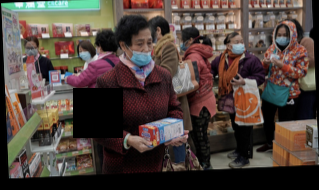mask_weared_incorrect: (126, 35, 154, 67)
with_mask: (230, 38, 247, 55), (276, 29, 292, 47), (24, 44, 39, 57), (180, 35, 191, 52), (79, 47, 90, 60)
